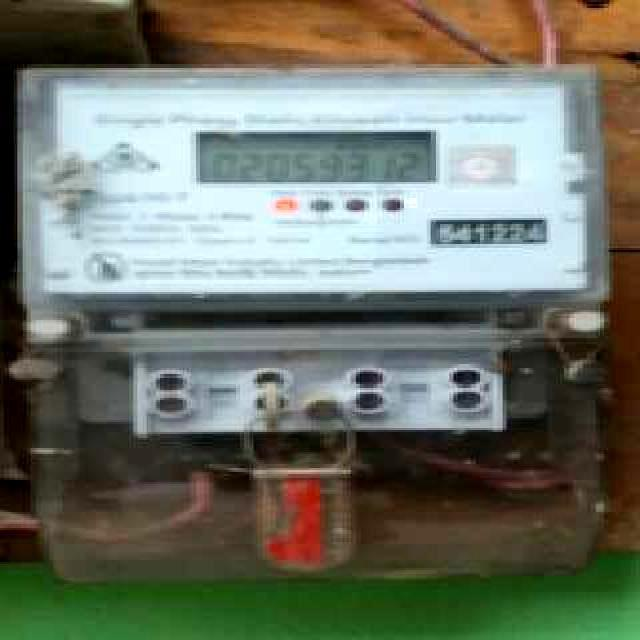LCD: (187, 126, 445, 185)
